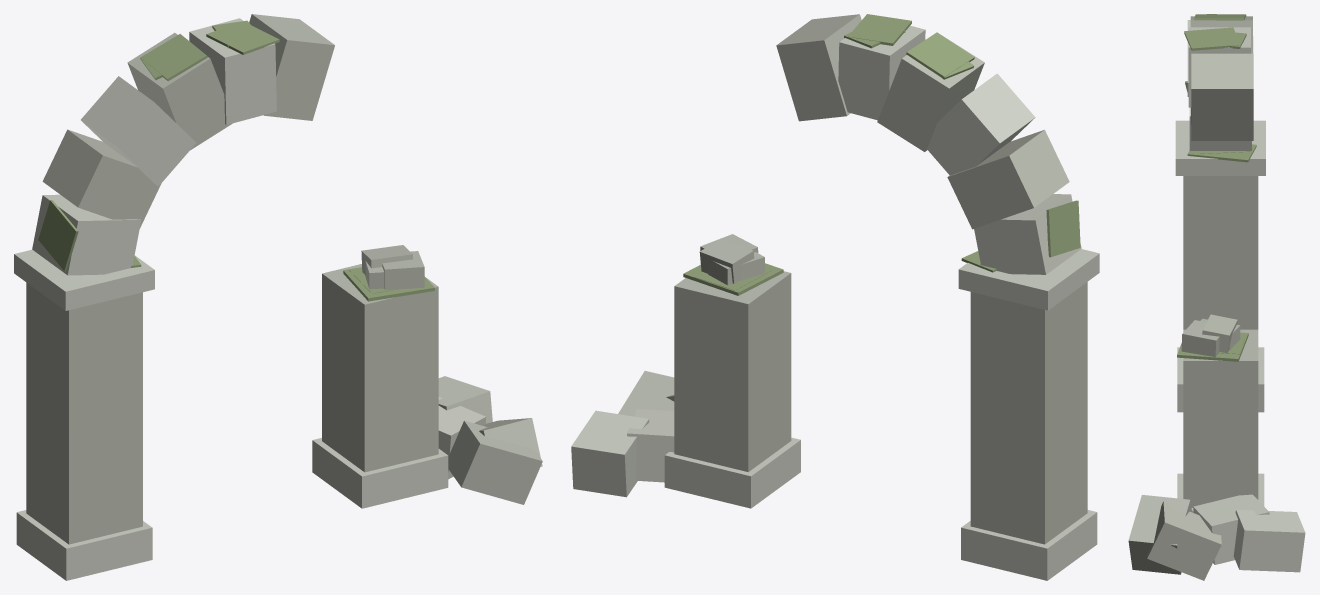
Rendered from ruin_arch.glb.
The picture shows the model from 3 angles, left to right: view 1: azimuth 30°, elevation 25°; view 2: azimuth 150°, elevation 25°; view 3: azimuth 270°, elevation 25°; orthographic projection. The views are drawn at different scales.
Parts seen in each view (by area): view 1: ruin_arch; view 2: ruin_arch; view 3: ruin_arch.
Part boxes in pixels (x1,y1,x2,y2): ruin_arch: [14, 14, 542, 580]; ruin_arch: [571, 14, 1099, 580]; ruin_arch: [1128, 14, 1305, 580].
Size of the model in its own units: 7.54 by 7.65 by 2.84.
